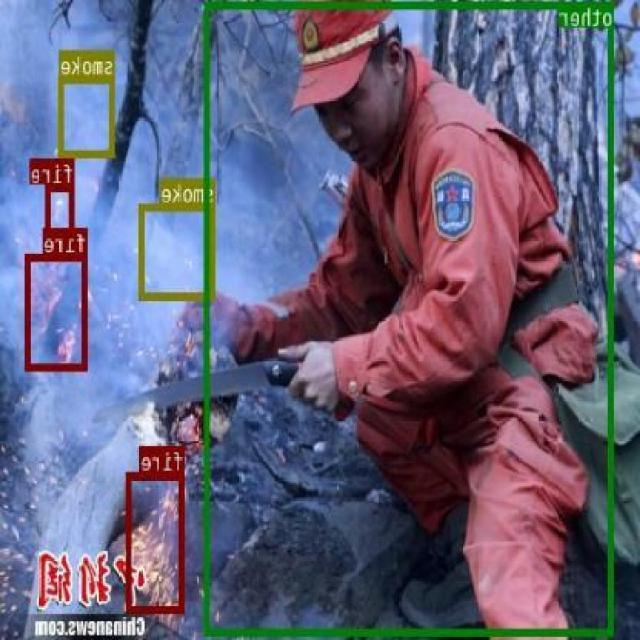Fire: (126, 470, 186, 612), (26, 252, 88, 370), (47, 183, 76, 237)
Smoke: (140, 204, 217, 298), (5, 390, 68, 494), (102, 307, 170, 379), (60, 75, 116, 157)
